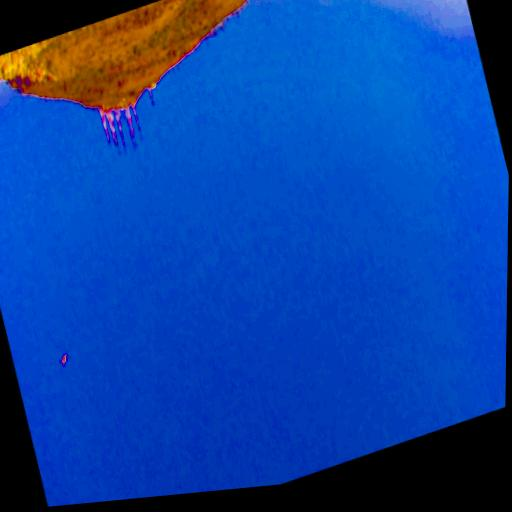drones: (55, 348, 73, 371)
